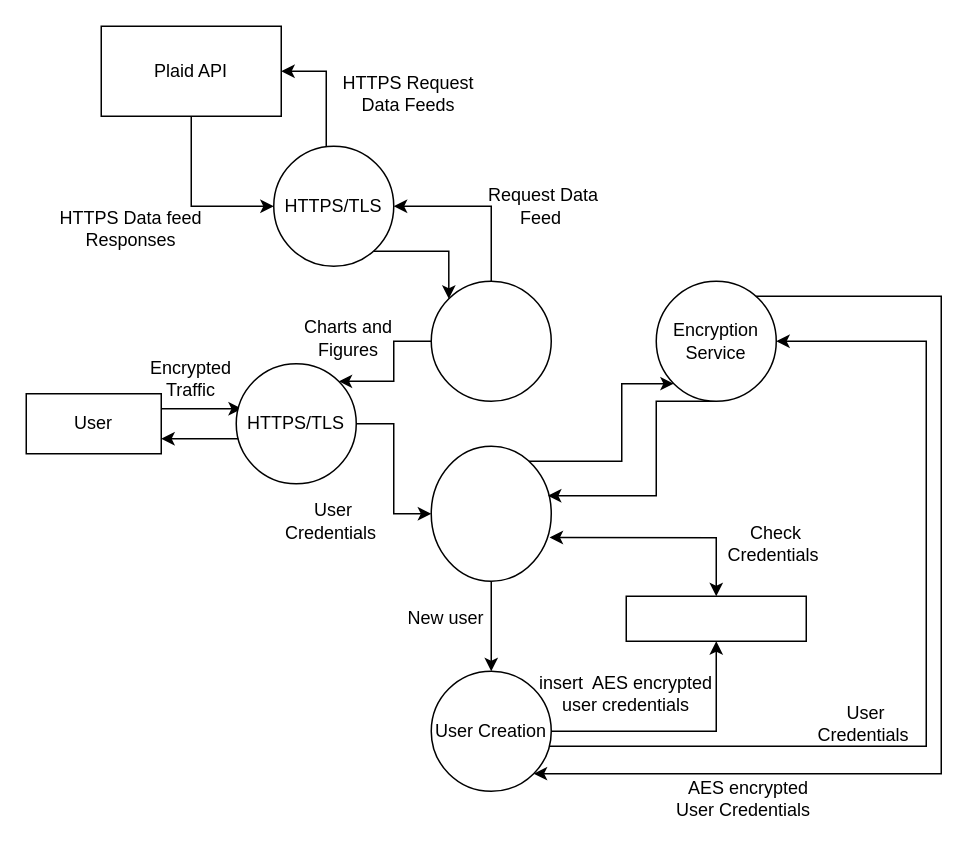
This 980x848 diagram has some shape labels left out. Each missing label, with the box of its shape:
Data Feed manager: (430, 280, 551, 401)
SQLite Database: (625, 595, 806, 641)
User Manager: (430, 445, 551, 581)
